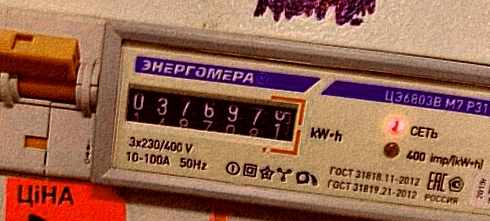0: (131, 90, 146, 111)
1: (270, 121, 283, 140)
3: (154, 95, 169, 116)
6: (201, 97, 216, 119)
7: (177, 95, 192, 118), (249, 104, 263, 127)
9: (225, 102, 239, 124)
screen: (115, 74, 310, 157)
